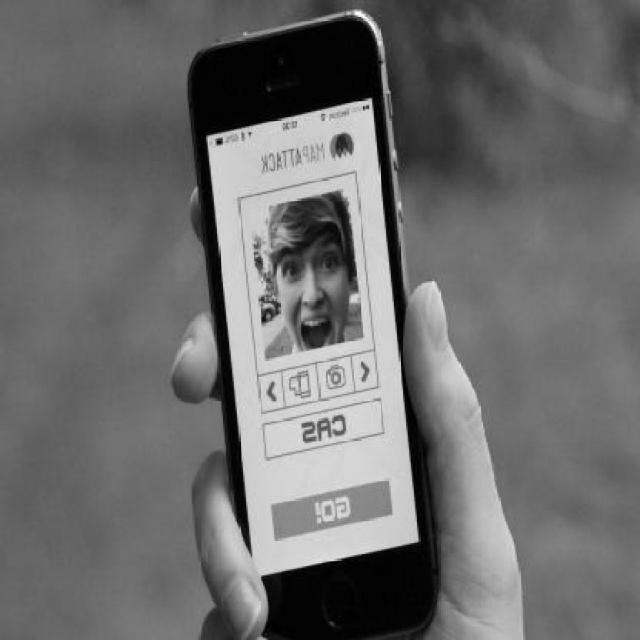fake: (186, 8, 440, 640)
